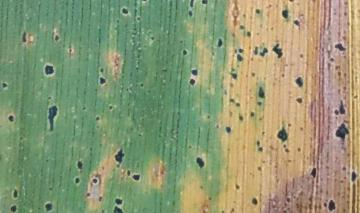tarspot: (45, 103, 61, 134), (332, 121, 351, 143), (269, 42, 287, 59), (275, 126, 292, 143), (322, 197, 340, 213), (114, 147, 127, 169), (42, 62, 57, 79), (292, 73, 307, 89), (332, 40, 349, 53), (194, 155, 207, 170), (255, 85, 268, 100), (214, 34, 226, 50), (348, 168, 360, 184), (40, 201, 56, 212), (309, 165, 320, 179), (338, 100, 347, 116), (96, 76, 109, 87), (187, 68, 202, 77), (250, 197, 261, 208), (228, 71, 239, 82), (76, 159, 86, 171), (113, 196, 125, 206), (280, 8, 290, 20), (259, 46, 269, 58), (21, 30, 28, 47), (112, 204, 125, 213), (250, 6, 263, 15), (6, 113, 17, 123), (188, 77, 198, 88), (292, 19, 303, 29), (119, 6, 131, 15), (234, 54, 246, 63), (132, 173, 142, 183), (294, 96, 305, 105), (12, 187, 20, 199), (224, 124, 232, 136), (9, 203, 18, 213), (91, 176, 101, 185), (186, 10, 196, 19), (237, 113, 246, 122), (53, 33, 61, 43), (73, 175, 81, 185), (255, 138, 263, 148), (235, 99, 243, 109), (245, 29, 253, 39), (331, 108, 341, 116), (252, 45, 259, 56), (85, 191, 93, 200), (182, 48, 190, 57), (237, 45, 246, 53), (197, 1, 211, 6), (98, 194, 105, 203), (234, 182, 241, 191), (283, 148, 292, 155), (99, 64, 105, 74), (1, 81, 9, 88), (125, 168, 132, 176), (188, 1, 195, 9), (257, 146, 264, 154), (239, 24, 246, 32), (249, 110, 256, 118), (229, 97, 236, 105), (93, 115, 102, 121), (255, 99, 264, 105), (107, 104, 114, 111), (256, 165, 263, 172), (138, 83, 146, 89), (281, 143, 289, 149), (207, 195, 214, 201), (283, 1, 297, 4)
